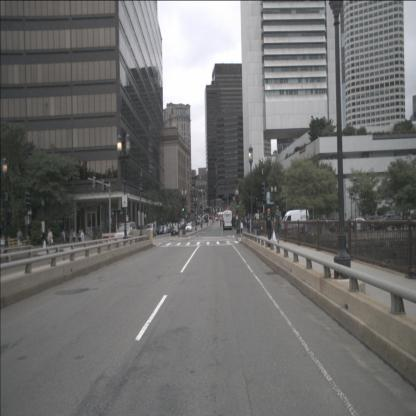human-pedestrian-adult: (264, 208, 277, 248), (274, 205, 282, 244), (16, 226, 23, 256), (47, 228, 54, 250), (61, 229, 66, 249), (41, 228, 45, 250), (80, 228, 85, 245), (77, 228, 82, 245), (72, 228, 76, 247), (240, 219, 243, 236), (247, 219, 250, 234), (162, 224, 164, 234), (220, 219, 222, 227), (223, 221, 224, 232), (170, 223, 171, 233)
vehicle-car: (280, 209, 310, 234), (114, 222, 137, 242), (329, 219, 355, 232), (351, 218, 373, 231), (144, 223, 156, 237), (170, 225, 180, 235), (157, 226, 164, 235), (186, 223, 192, 232), (162, 225, 168, 234), (166, 224, 171, 232)
vehicle-truck: (376, 214, 402, 230), (223, 211, 232, 229), (204, 215, 208, 222)
